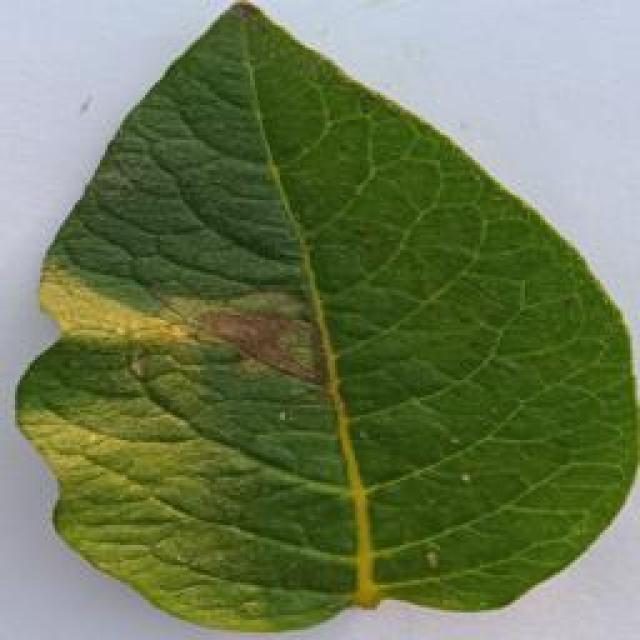Potato_Late_Blight: (7, 5, 634, 632), (402, 2, 640, 198)
